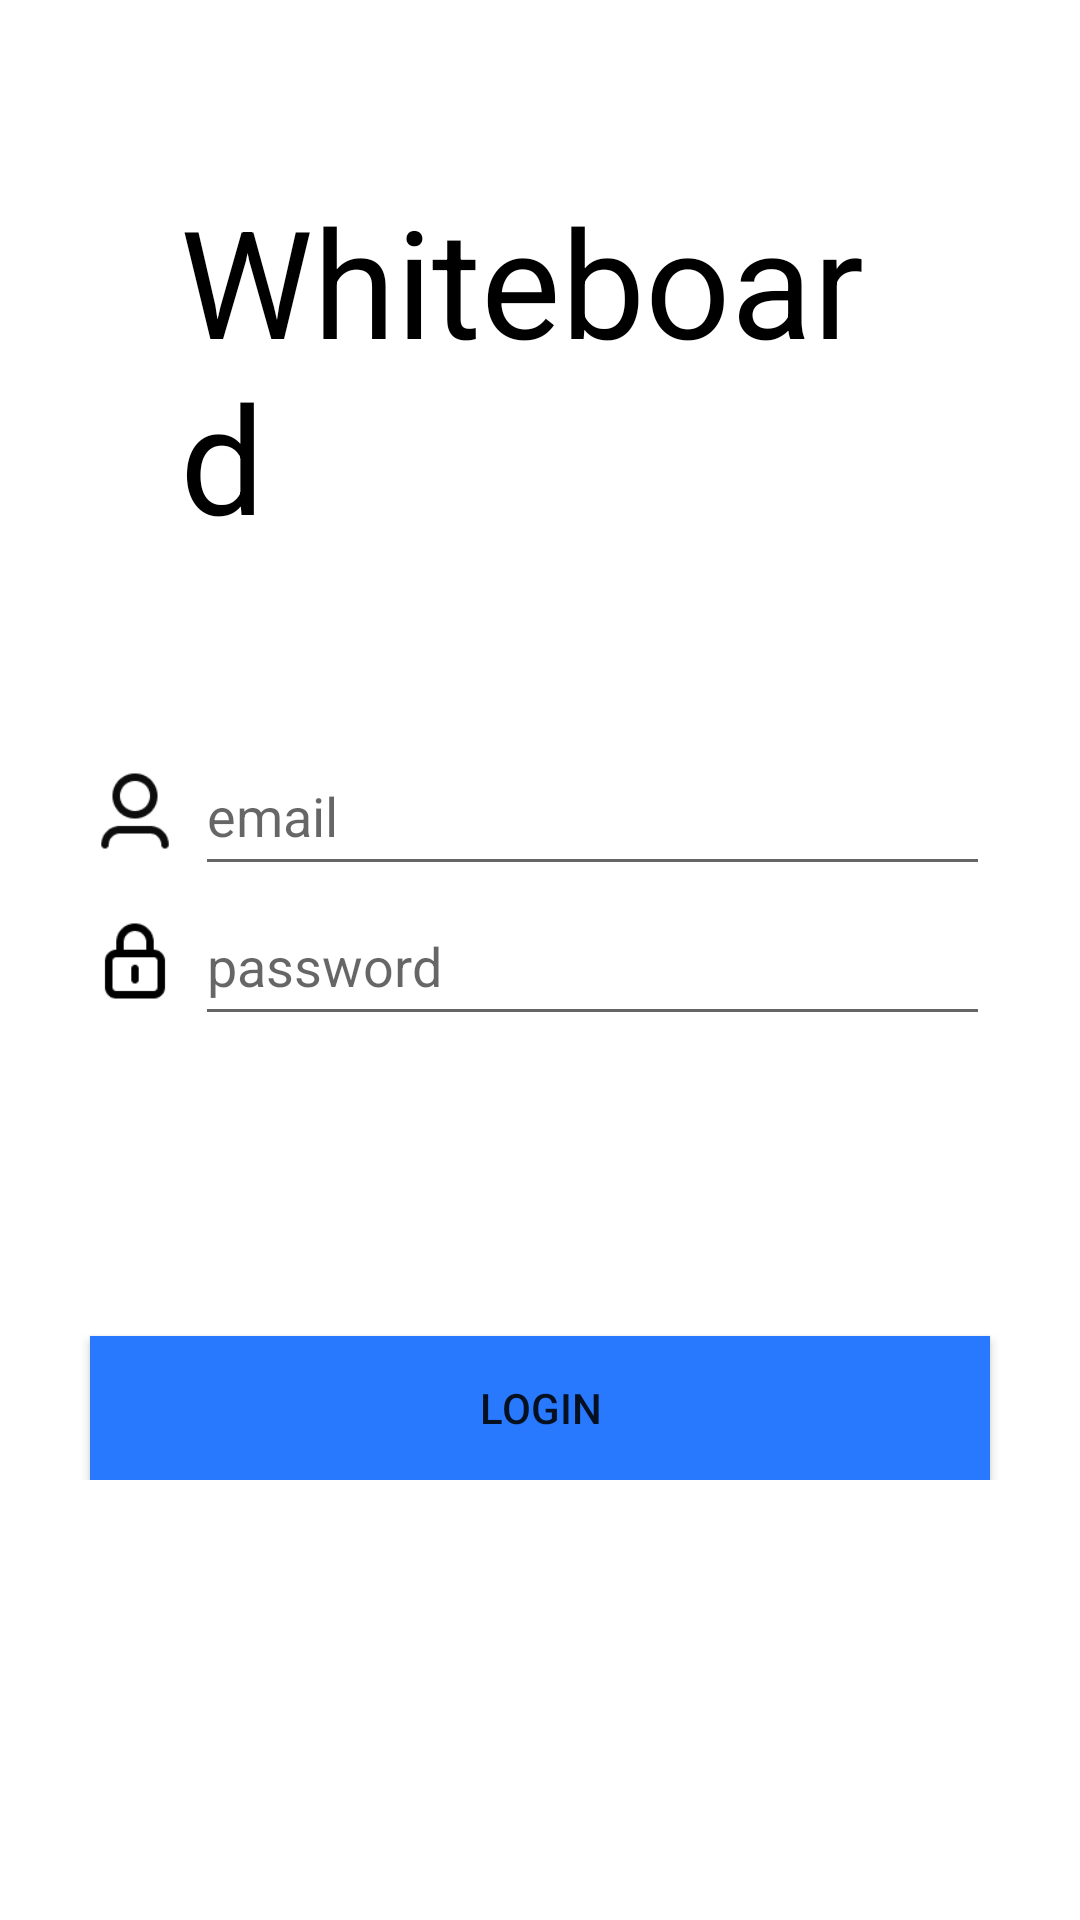

Icons on this 1080w x 1920h Android screen, each with the point to tap as point (x, y):
lock: point (135, 961)
user: point (135, 811)
